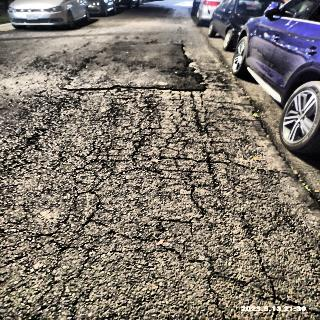alligator-crack: (61, 89, 223, 290)
crack: (232, 76, 318, 210)
